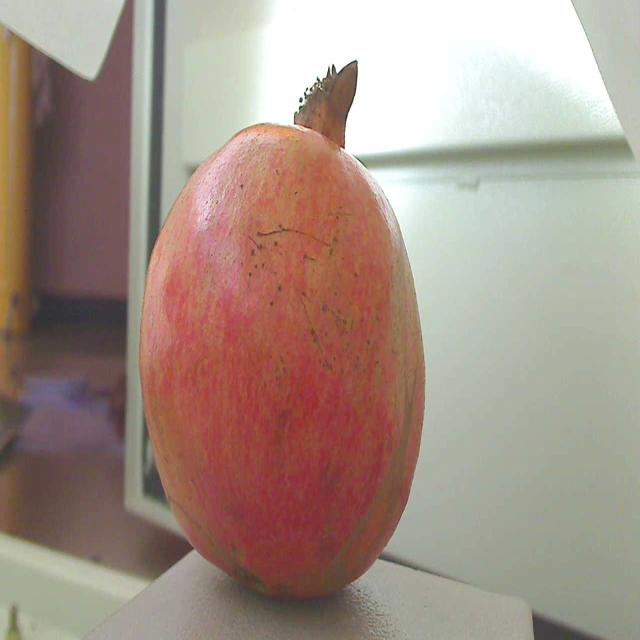pomegranate: (130, 38, 434, 613)
